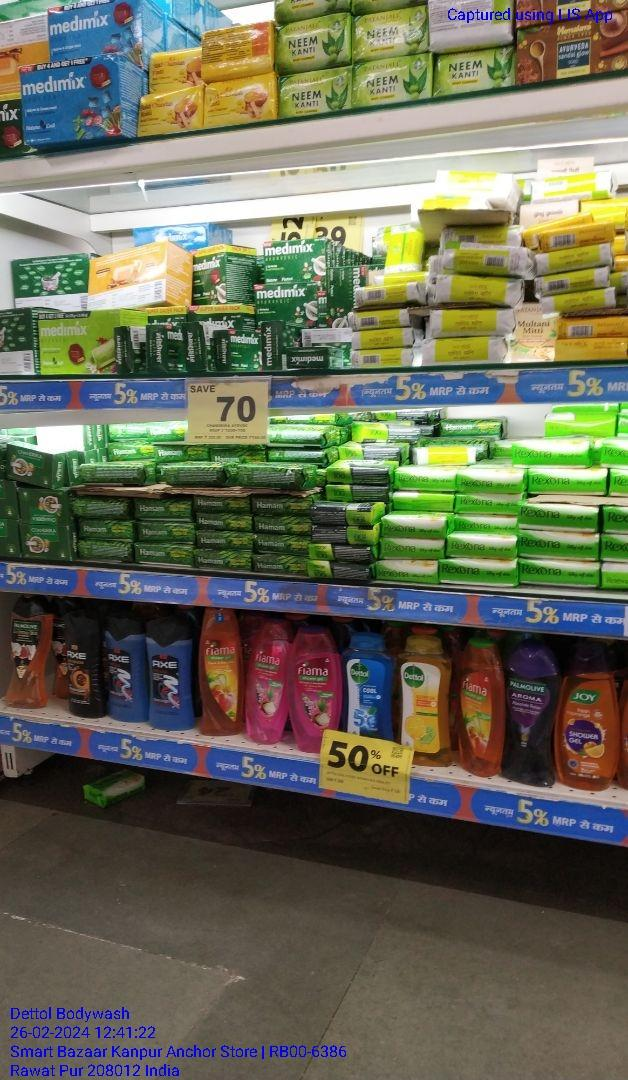Dettol_Bodywash_Cool: (343, 630, 394, 742)
Dettol_Bodywash_Refresh: (398, 635, 454, 765)
Fiama_Shower_Gel_Patchouli_and_Macadamia_250ML: (241, 617, 293, 748), (288, 627, 337, 738)
Fiama_Shower_Gel_Peach_and_Avocado_250ML: (455, 635, 506, 777), (196, 609, 243, 738)
Joy_Shower_Gel_Mandarin_and_Lemongrass_250ML: (551, 654, 623, 791)
Palmolive_Aroma_Relax_250ML: (502, 648, 552, 782)
Palmolive_Luminous_Oils_With_White_Orchid_Shower_Gel_250ML: (7, 596, 53, 711)
